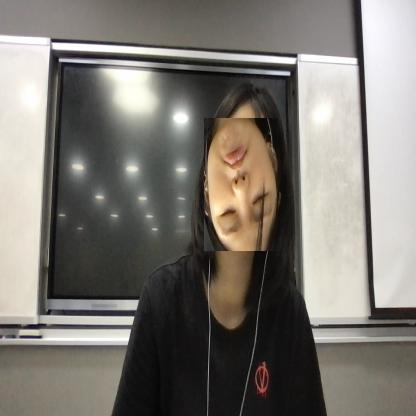sad: (204, 118, 279, 252)
